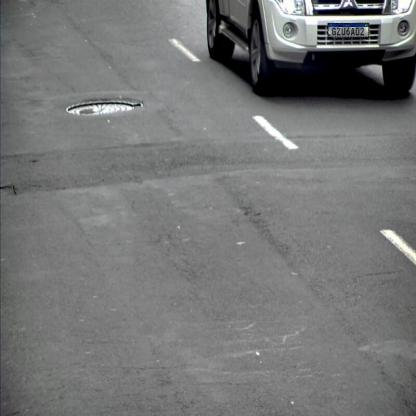PlacaM: (328, 23, 369, 37)
